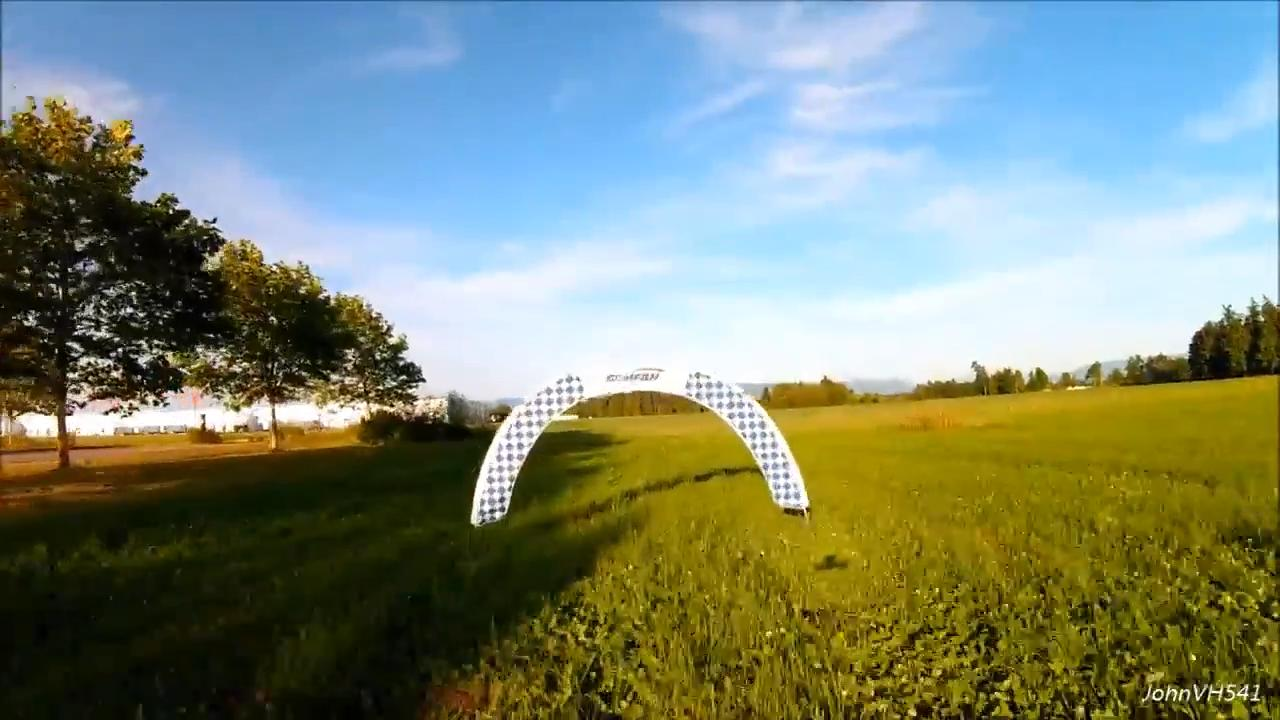gate: (466, 367, 815, 535)
